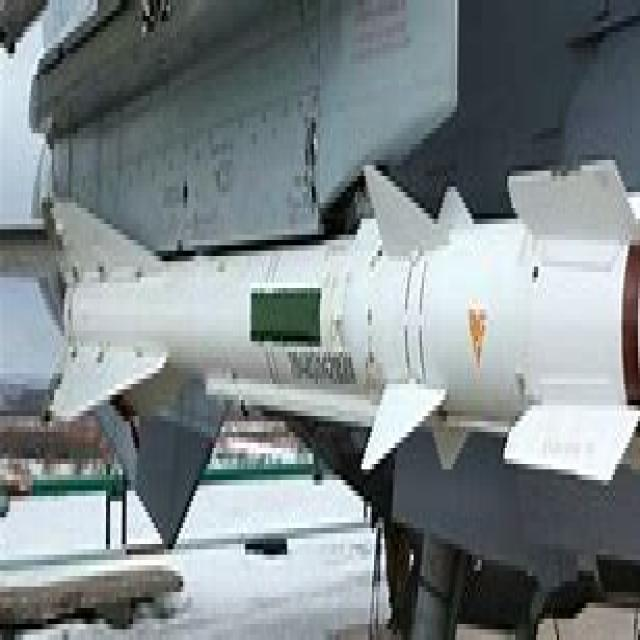missile: (33, 160, 638, 553)
